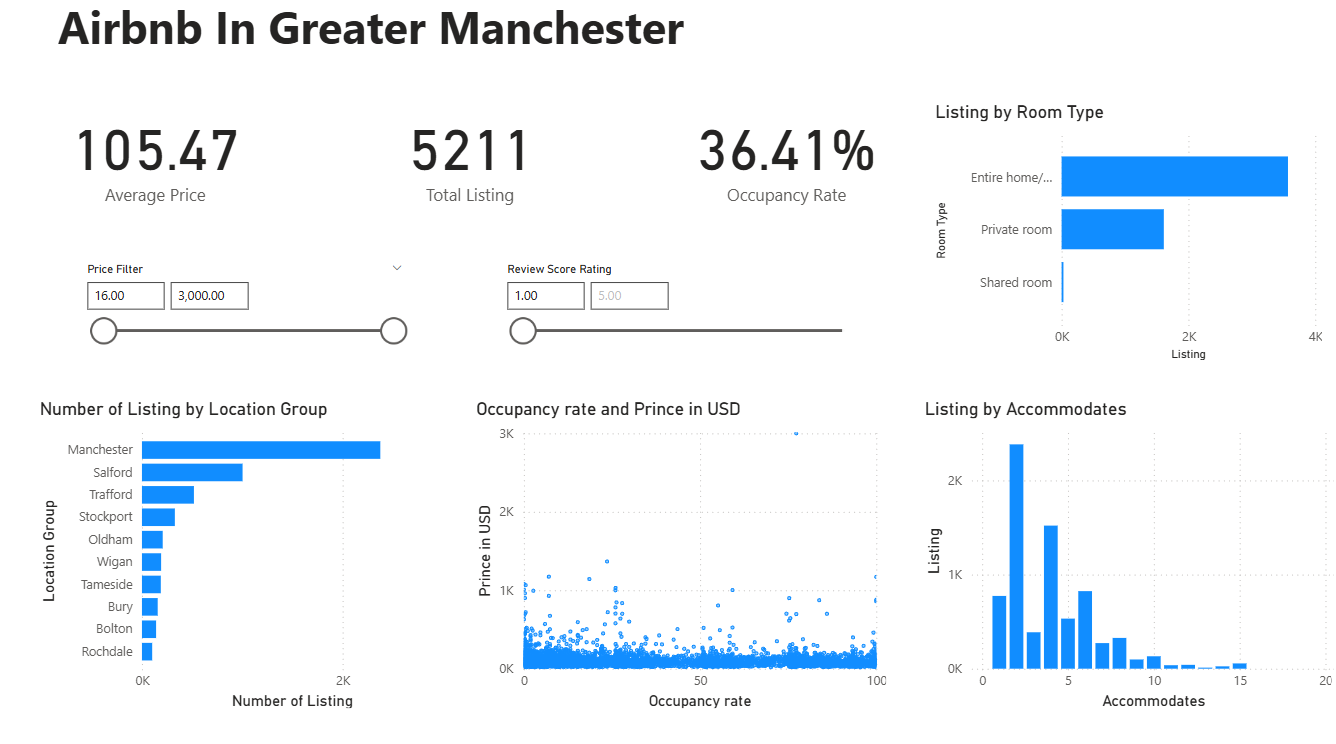

This screenshot's page, from the dashboard's own definition file:
{"tool":"powerbi","page":{"name":"Page 1","canvas":[1280,720],"ordinal":0},"visuals":[{"type":"card","fields":{"Values":["fct_listing_performance.Occupancy Rate"]},"box":[614,0,334,162],"z":0},{"type":"card","fields":{"Values":["CountNonNull(fct_listing_performance.listing_id)"]},"box":[300,0,314,158],"z":1000},{"type":"card","fields":{"Values":["Avg(fct_listing_performance.price_usd)"]},"box":[0.5,0.1,299.2,162.3],"z":2000},{"type":"clusteredBarChart","fields":{"Category":["neighbourhoods.neighbourhood_group"],"Y":["Count(fct_listing_performance.listing_id)"]},"box":[22,190,556,298],"z":3000},{"type":"scatterChart","fields":{"X":["fct_listing_performance.occupancy_rate_pct"],"Y":["fct_listing_performance.price_usd"]},"box":[600,190,440,298],"z":4000},{"type":"slicer","fields":{"Values":["fct_listing_performance.occupancy_rate_pct"]},"box":[0,488,556,102],"z":5000},{"type":"slicer","fields":{"Values":["fct_listing_performance.price_usd"]},"box":[0,584,556,136],"z":6000}]}

Visuals, with their boxes in screenshot pixels (x1, y1, x2, y2), scaled from the page's 1280x720 canvas onto the 1336x744 screenshot:
card - fct_listing_performance.Occupancy Rate: (left=641, top=0, right=989, bottom=167)
card - CountNonNull(fct_listing_performance.listing_id): (left=313, top=0, right=641, bottom=163)
card - Avg(fct_listing_performance.price_usd): (left=1, top=0, right=313, bottom=168)
clusteredBarChart - neighbourhoods.neighbourhood_group x Count(fct_listing_performance.listing_id): (left=23, top=196, right=603, bottom=504)
scatterChart - fct_listing_performance.occupancy_rate_pct x fct_listing_performance.price_usd: (left=626, top=196, right=1086, bottom=504)
slicer - fct_listing_performance.occupancy_rate_pct: (left=0, top=504, right=580, bottom=610)
slicer - fct_listing_performance.price_usd: (left=0, top=603, right=580, bottom=743)
